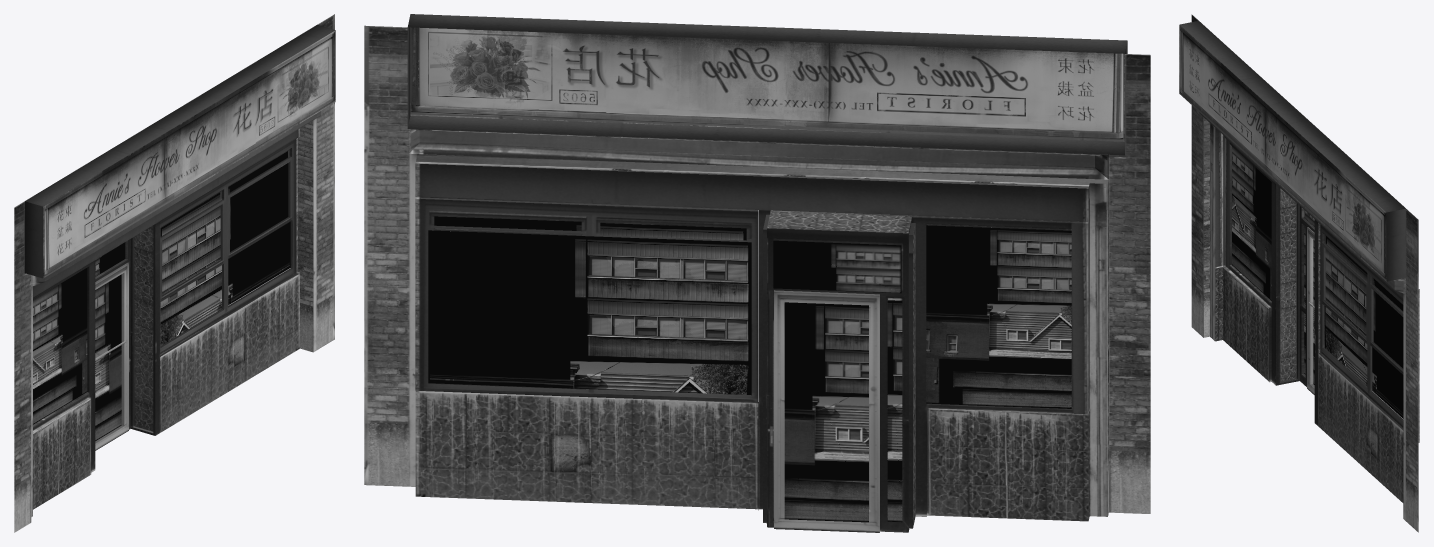
File: chinatown_florist.fbx
The picture shows the model from 3 angles, left to right: view 1: azimuth 30°, elevation 25°; view 2: azimuth 150°, elevation 25°; view 3: azimuth 270°, elevation 25°; orthographic projection. The views are drawn at different scales.
Parts seen in each view (by area): view 1: chinatown_florist, Plane348; view 2: chinatown_florist, Plane348; view 3: chinatown_florist, Plane348.
Boxes of the visible parts, x1,y1,x2,y2 form: chinatown_florist: [14, 14, 335, 532]; Plane348: [33, 151, 290, 440]; chinatown_florist: [364, 14, 1150, 532]; Plane348: [428, 216, 1071, 522]; chinatown_florist: [1179, 14, 1419, 532]; Plane348: [1232, 146, 1403, 418].
Bounding box in the file's own units: 818 × 580 × 404.
